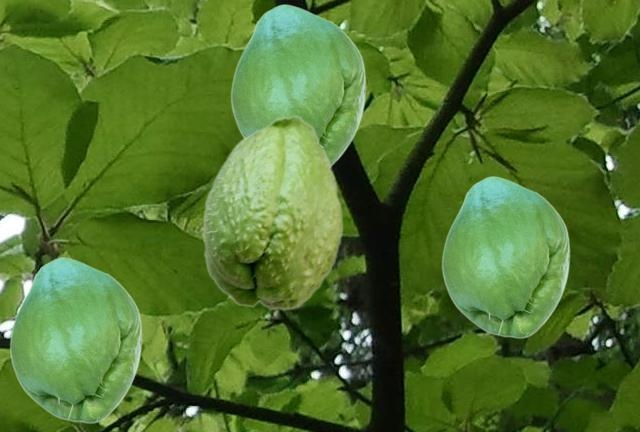sayote: (202, 114, 343, 310), (9, 257, 141, 423), (230, 4, 365, 165), (441, 176, 569, 338)
